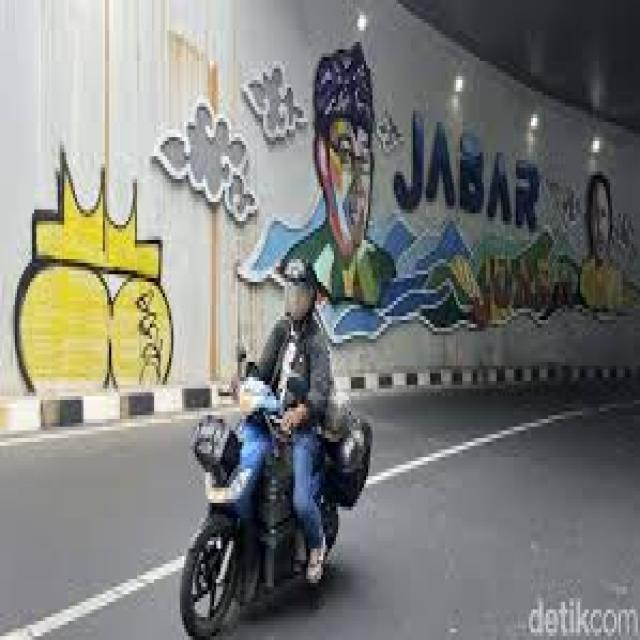-: (156, 37, 640, 344), (16, 148, 176, 388)
